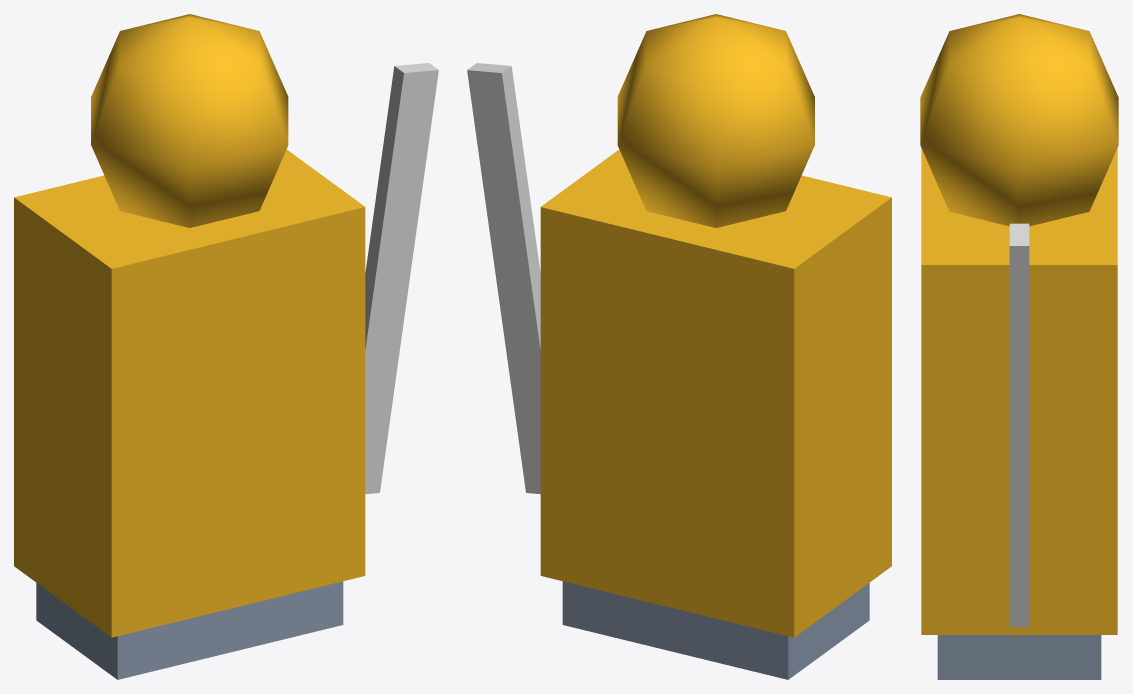
File: hero.glb
The picture shows the model from 3 angles, left to right: view 1: azimuth 30°, elevation 25°; view 2: azimuth 150°, elevation 25°; view 3: azimuth 270°, elevation 25°; orthographic projection.
Parts seen in each view (by area): view 1: node_0, node_2, node_3, node_1; view 2: node_0, node_2, node_3, node_1; view 3: node_0, node_2, node_3, node_1.
Part boxes in pixels (x1=…): node_0: x1=14, y1=149, x2=365, y2=637; node_2: x1=91, y1=14, x2=288, y2=227; node_3: x1=365, y1=63, x2=438, y2=494; node_1: x1=36, y1=581, x2=343, y2=679; node_0: x1=540, y1=149, x2=891, y2=637; node_2: x1=617, y1=14, x2=814, y2=227; node_3: x1=467, y1=63, x2=540, y2=494; node_1: x1=562, y1=581, x2=869, y2=679; node_0: x1=921, y1=148, x2=1117, y2=634; node_2: x1=920, y1=14, x2=1118, y2=226; node_3: x1=1009, y1=223, x2=1029, y2=626; node_1: x1=937, y1=635, x2=1101, y2=679.
Size of the model in its own units: 0.2633 by 0.41 by 0.1212.
